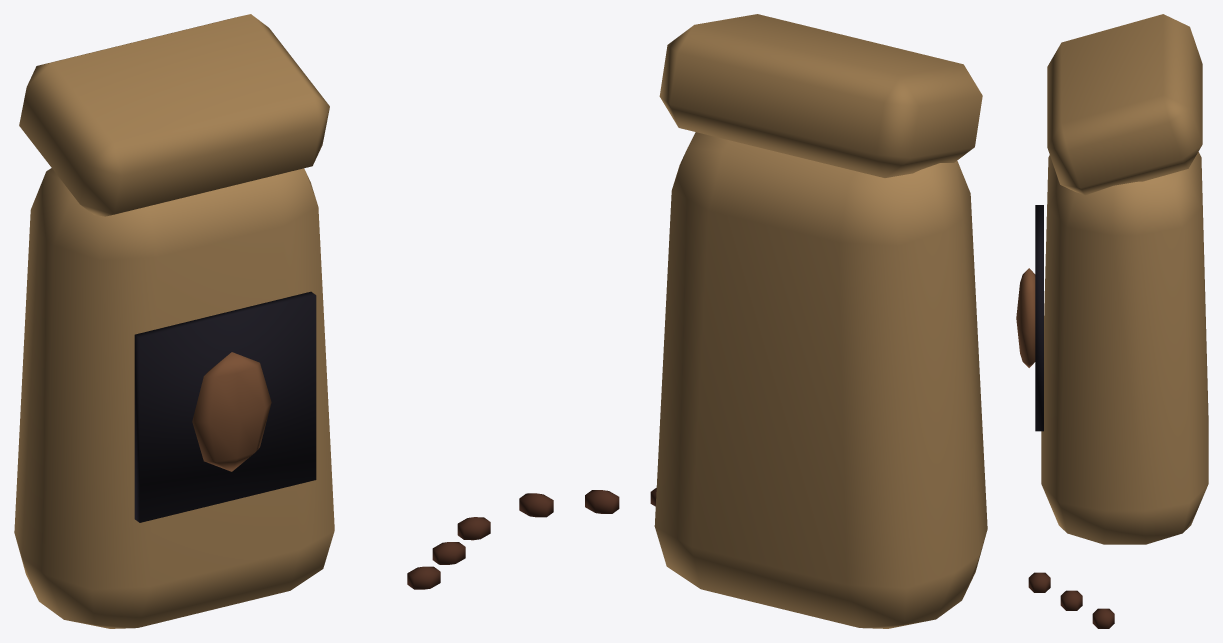
Rendered from coffee_beans.glb.
3 views of the same model, side by side, from view 1: azimuth 30°, elevation 25°; view 2: azimuth 150°, elevation 25°; view 3: azimuth 270°, elevation 25° (orthographic). The views are drawn at different scales.
Visible parts, largest first — view 1: coffee_beans; view 2: coffee_beans; view 3: coffee_beans.
Part boxes in pixels (box(x1,y1,x2,y2)): coffee_beans: box(14, 14, 490, 628); coffee_beans: box(519, 14, 987, 628); coffee_beans: box(1016, 14, 1208, 628).
Size of the model in its own units: 0.1998 by 0.2365 by 0.0903.
